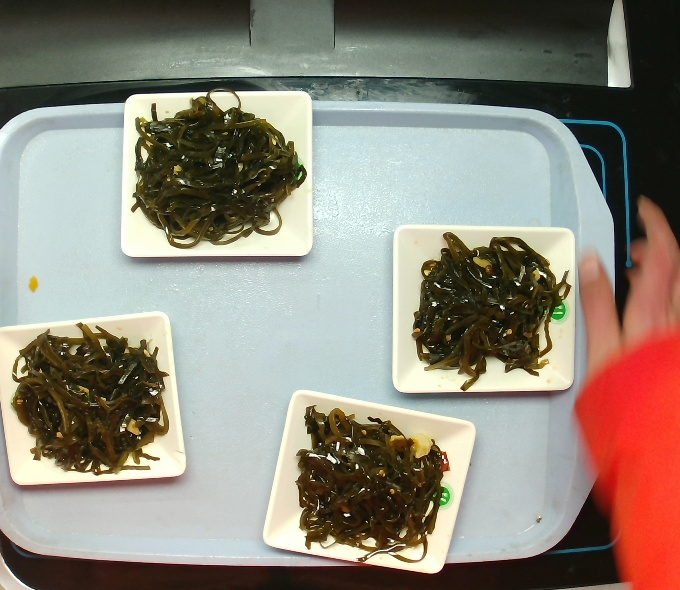wcq-LiangBanHaiDai: (129, 79, 300, 260), (9, 319, 177, 478), (406, 235, 570, 385), (289, 409, 451, 555)
